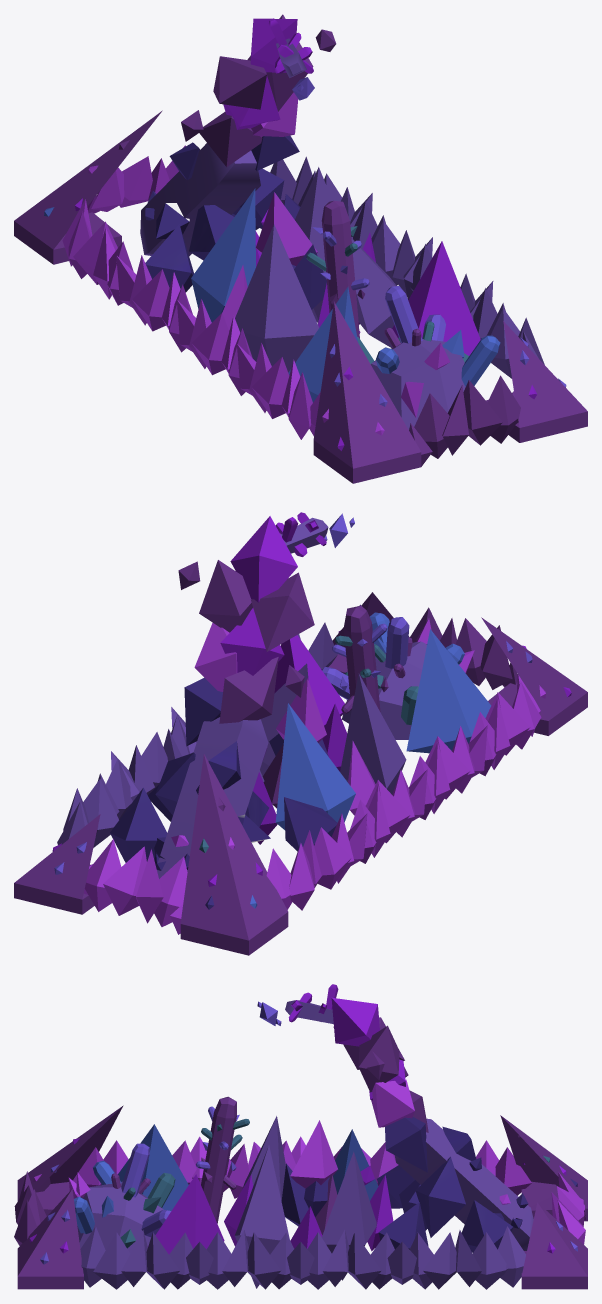
The model's file is diamond_patch_asset.fbx.
3 views of the same model, one above another, from view 1: azimuth 30°, elevation 25°; view 2: azimuth 150°, elevation 25°; view 3: azimuth 270°, elevation 25° (orthographic). The views are drawn at different scales.
Parts seen in each view (by area): view 1: polySurface225; view 2: polySurface225; view 3: polySurface225.
Part boxes in pixels (x1,y1,x2,y2): polySurface225: (14, 14, 587, 483); polySurface225: (14, 512, 587, 955); polySurface225: (14, 984, 587, 1289).
Size of the model in its own units: 43.68 by 53.12 by 101.
